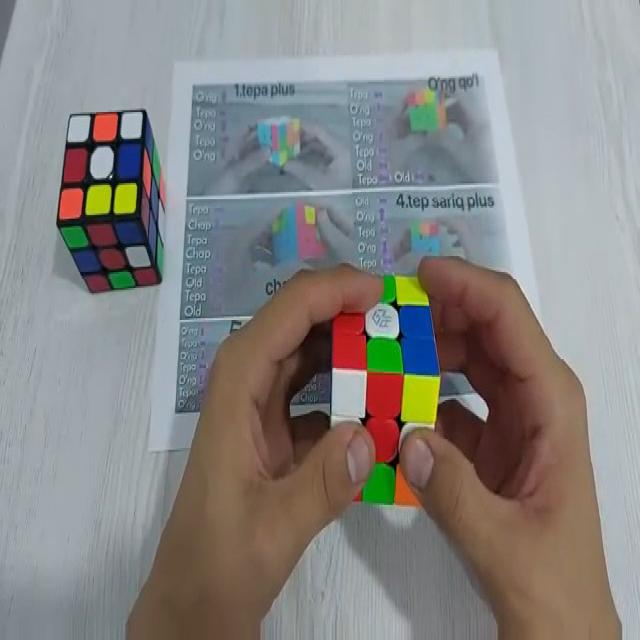Rub: (329, 270, 442, 511), (60, 106, 165, 292)
